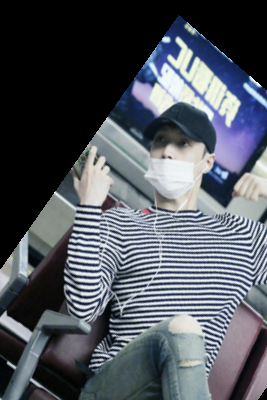mask_weared_incorrect: (139, 100, 220, 213)
